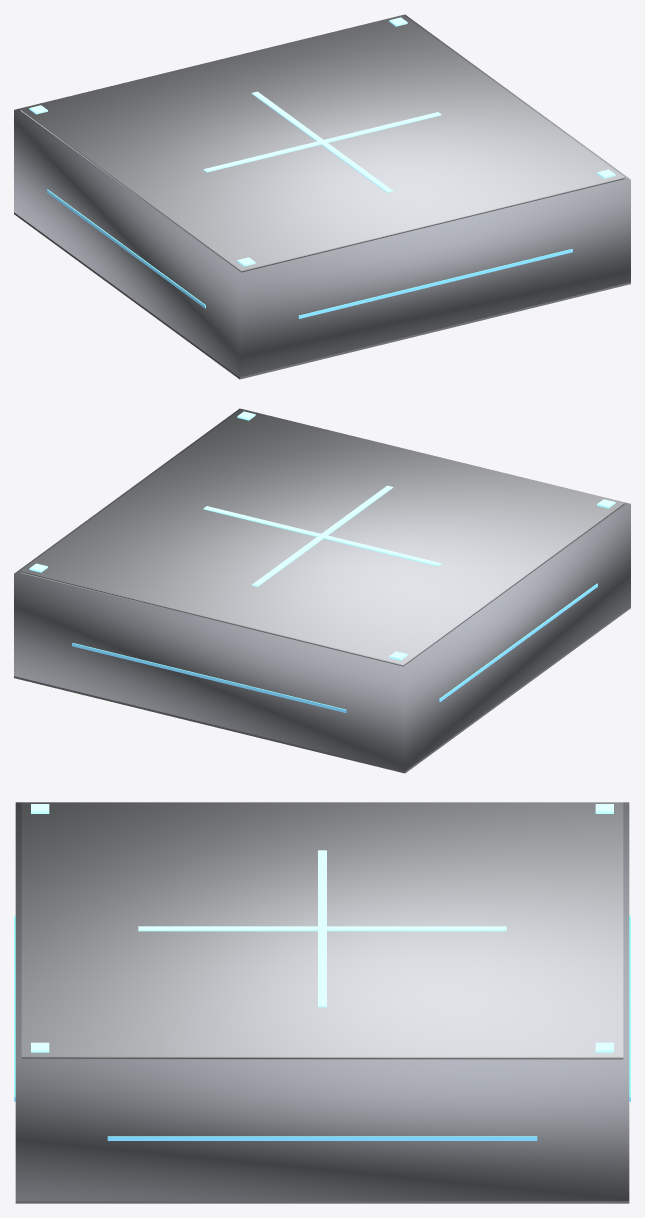
File: MapBlock.glb
The picture shows the model from 3 angles, top to bottom: view 1: azimuth 30°, elevation 25°; view 2: azimuth 150°, elevation 25°; view 3: azimuth 270°, elevation 25°; orthographic projection. The views are drawn at different scales.
Visible parts, largest first — view 1: BlockTopFace, BlockBody, BlockBottomFace, BlockSideLine_1, BlockGlowH, BlockGlowV, BlockSideLine_3; view 2: BlockTopFace, BlockBody, BlockBottomFace, BlockSideLine_0, BlockGlowH, BlockGlowV, BlockSideLine_3; view 3: BlockTopFace, BlockBody, BlockGlowV, BlockSideLine_2, BlockBottomFace, BlockGlowH.
Boxes of the visible parts, left/top/right/bottom form: BlockTopFace: left=20, top=15, right=624, bottom=272; BlockBody: left=14, top=14, right=630, bottom=377; BlockBottomFace: left=14, top=212, right=630, bottom=379; BlockSideLine_1: left=298, top=249, right=572, bottom=318; BlockGlowH: left=203, top=112, right=441, bottom=172; BlockGlowV: left=251, top=91, right=393, bottom=192; BlockSideLine_3: left=47, top=189, right=205, bottom=308; BlockTopFace: left=20, top=409, right=624, bottom=666; BlockBody: left=14, top=408, right=630, bottom=771; BlockBottomFace: left=14, top=606, right=630, bottom=773; BlockSideLine_0: left=72, top=643, right=346, bottom=712; BlockGlowH: left=203, top=506, right=441, bottom=566; BlockGlowV: left=251, top=485, right=393, bottom=586; BlockSideLine_3: left=439, top=583, right=597, bottom=702; BlockTopFace: left=21, top=802, right=623, bottom=1059; BlockBody: left=15, top=802, right=629, bottom=1200; BlockGlowV: left=138, top=926, right=506, bottom=931; BlockSideLine_2: left=107, top=1136, right=537, bottom=1140; BlockBottomFace: left=15, top=1201, right=629, bottom=1203; BlockGlowH: left=318, top=850, right=326, bottom=1007.
Bounding box in the file's own units: 2.01 × 0.5275 × 2.01.
